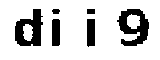9: (111, 6, 153, 53)
d: (13, 5, 45, 51)
i: (47, 5, 68, 52), (81, 5, 102, 49)
